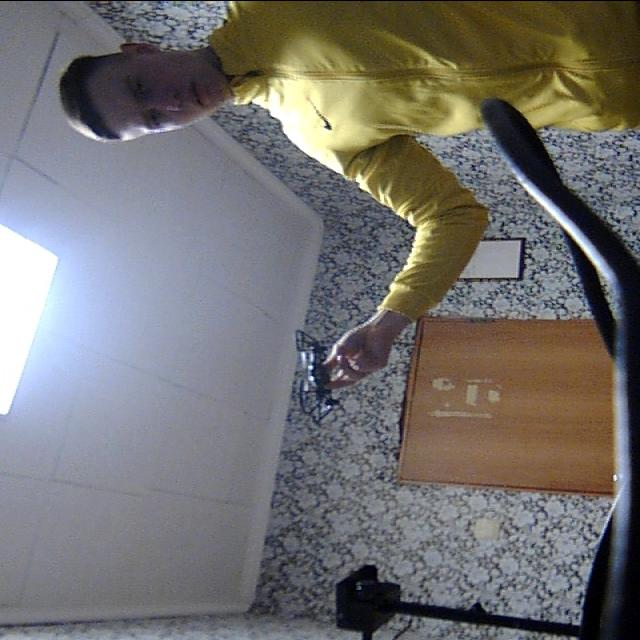drone: (285, 328, 341, 420)
